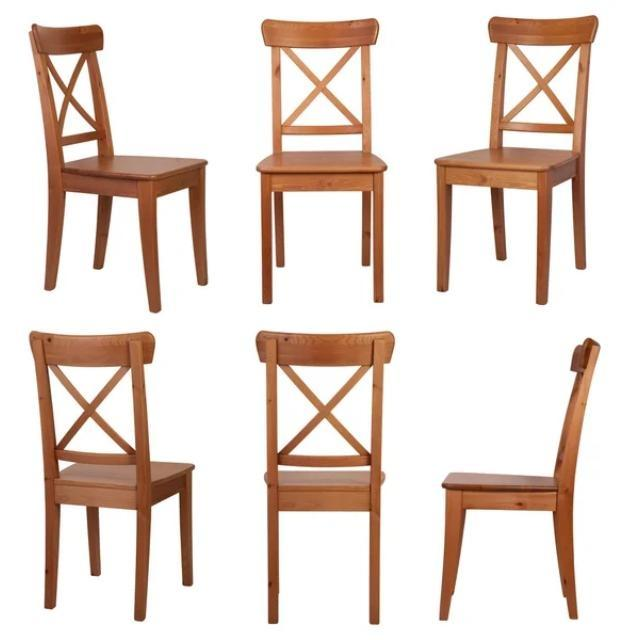obstacle: (17, 7, 220, 326), (16, 304, 208, 640), (238, 302, 427, 640), (434, 300, 610, 640), (422, 1, 610, 309), (233, 6, 409, 302)
